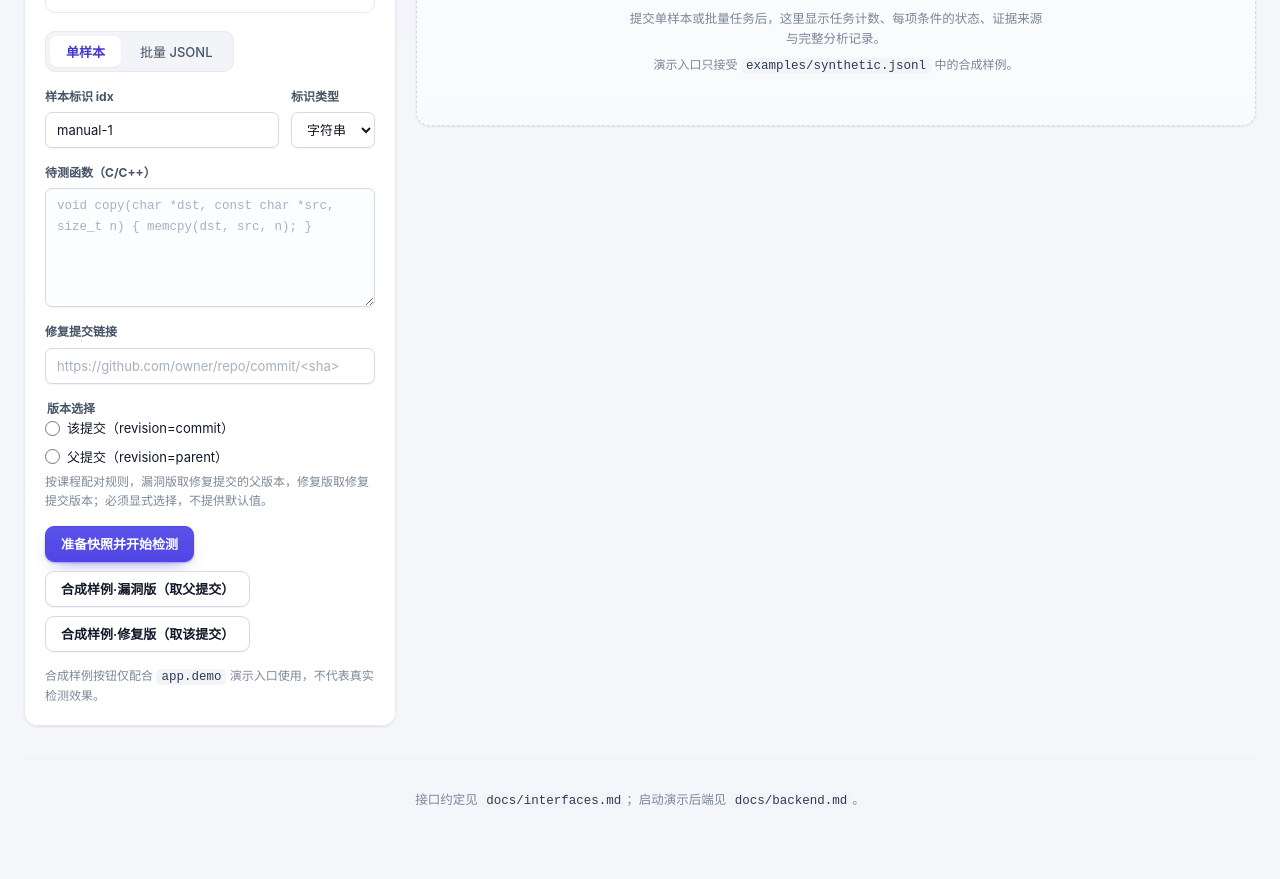
it: App 单条检测流程 › 先读报告快照，再从其 seq 续接事件流
The image size is (1280, 879).
(page scrolled)
Click the button "合成样例·漏洞版（取父提交）".
click(148, 589)  # box [45, 571, 250, 607]
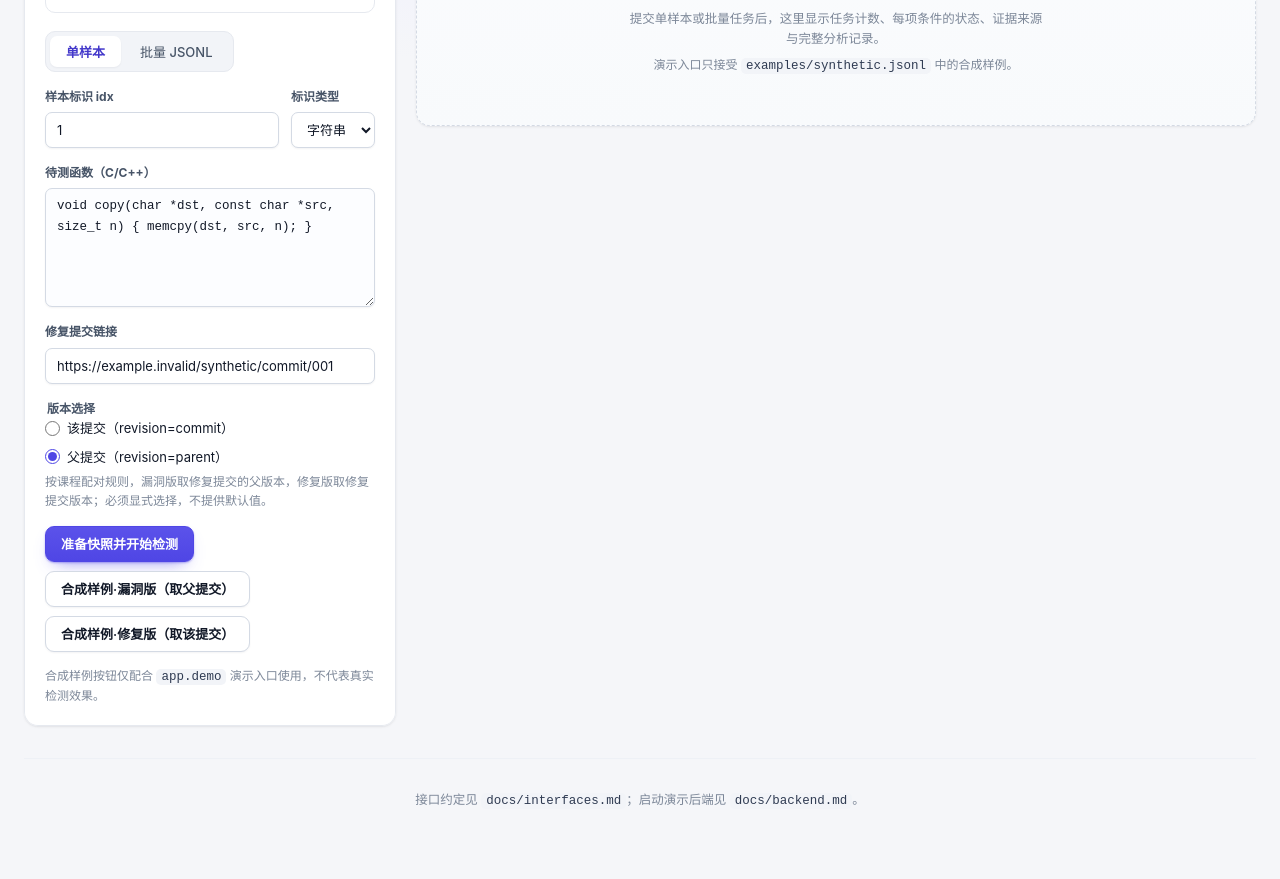
Click the button "准备快照并开始检测".
click(120, 544)  # box [45, 526, 194, 562]
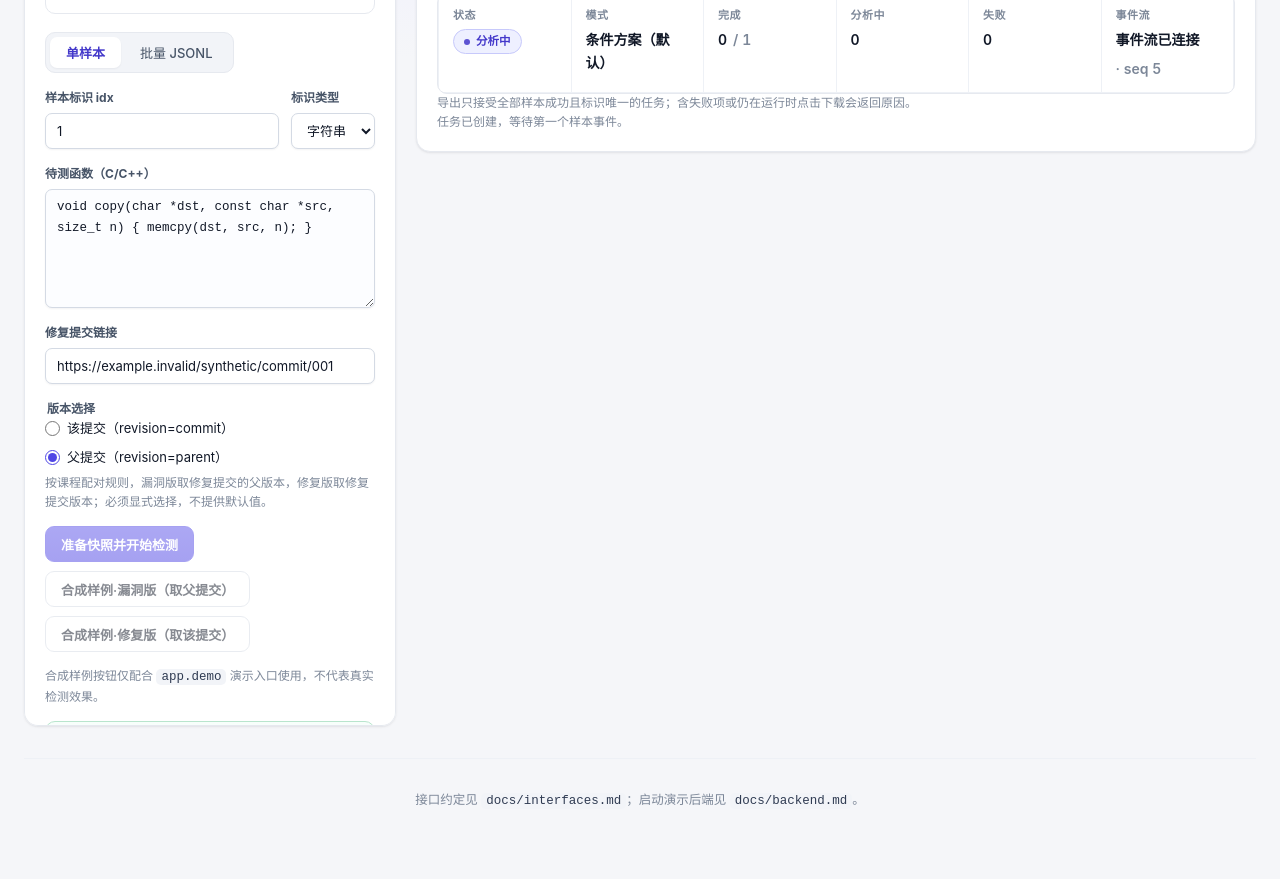
Check: the text "事件流已连接" is shown, box [1116, 31, 1200, 48]
